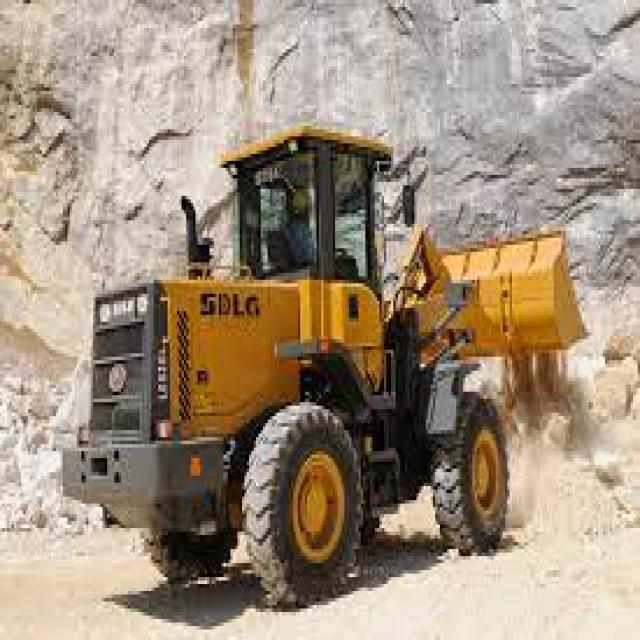buldozerpayloadergrader: (56, 117, 586, 608)
